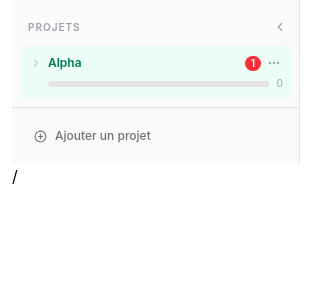
Test: WorkspaceSidebar › attention › caps hitl lines at three and shows "+N autres"
Click the button named "Déplier les actions en attente": [36, 63] box x1=28 y1=55 x2=44 y2=71
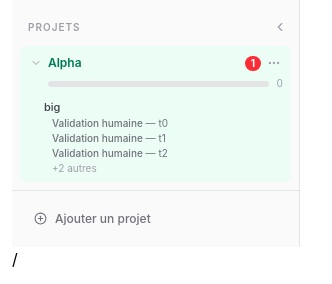
Expected: the number of elements with test id "signal-line" is 3, x1=52 y1=116 x2=168 y2=128; x1=52 y1=132 x2=166 y2=144; x1=52 y1=146 x2=168 y2=158
Expected: the text "+2 autres" is shown, x1=52 y1=162 x2=97 y2=174
